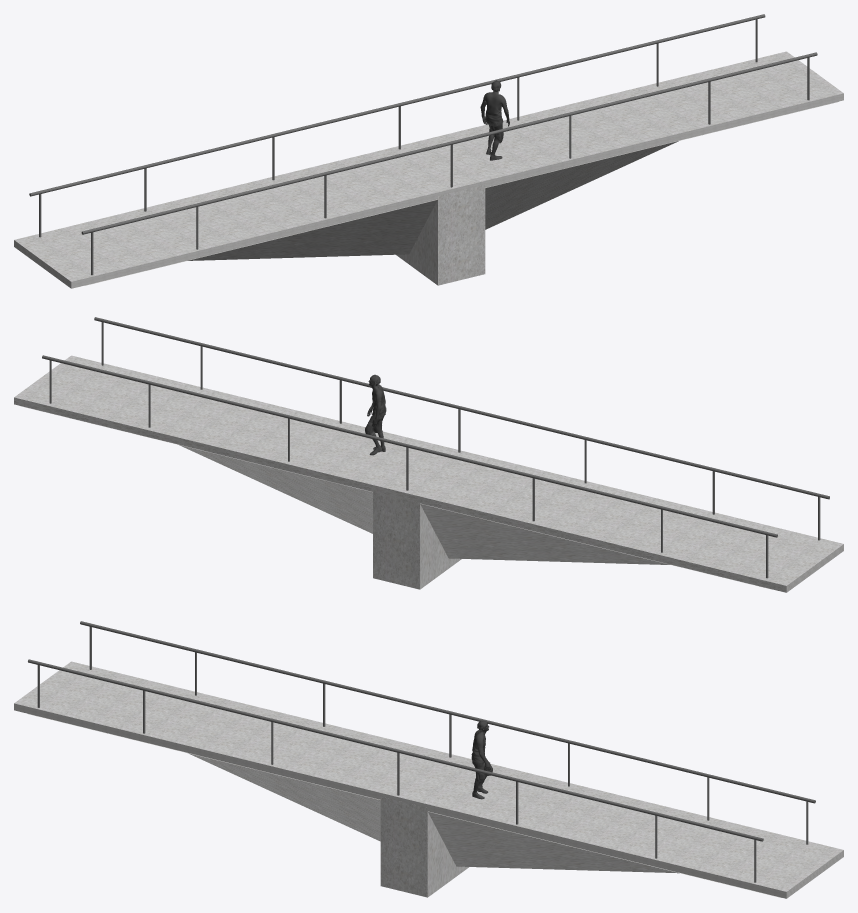
File: bidge-02-base-01.glb
The picture shows the model from 3 angles, top to bottom: view 1: azimuth 30°, elevation 25°; view 2: azimuth 150°, elevation 25°; view 3: azimuth 330°, elevation 25°; orthographic projection.
Visible parts, largest first — view 1: Cube, bridge-02-base, Cylinder.015, Tops.001; view 2: Cube, bridge-02-base, Cylinder.015, Tops.001; view 3: Cube, bridge-02-base, Cylinder.015, Tops.001.
Part boxes in pixels (x1=…): Cube: x1=14, y1=51, x2=843, y2=288; bridge-02-base: x1=85, y1=101, x2=838, y2=285; Cylinder.015: x1=29, y1=14, x2=817, y2=275; Tops.001: x1=480, y1=80, x2=509, y2=160; Cube: x1=14, y1=355, x2=843, y2=592; bridge-02-base: x1=19, y1=405, x2=772, y2=589; Cylinder.015: x1=42, y1=317, x2=829, y2=578; Tops.001: x1=365, y1=374, x2=386, y2=455; Cube: x1=14, y1=661, x2=843, y2=898; bridge-02-base: x1=28, y1=714, x2=781, y2=897; Cylinder.015: x1=28, y1=621, x2=815, y2=882; Tops.001: x1=471, y1=720, x2=492, y2=799.
Bounding box in the file's own units: 38.92 × 8.13 × 5.01.
4 materials, 2 textured.
